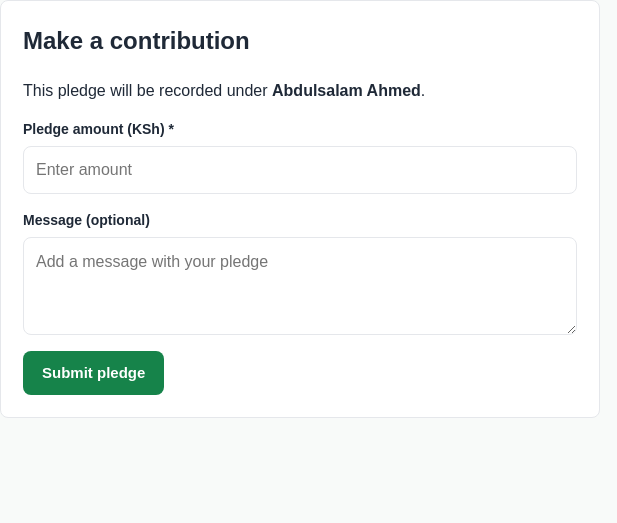
Test: PledgeForm › rejects an amount below KSh 1
Type "0" into the number field labelled "Pledge amount (KSh) *" at (300, 170), box [23,146,577,194]
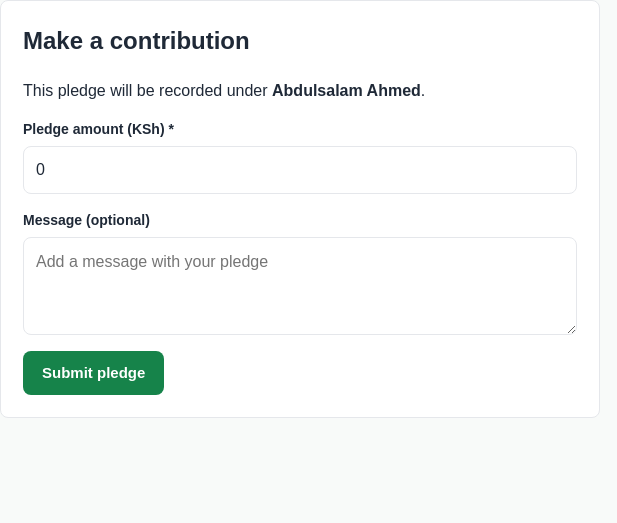
Submit the form named "submit pledge"
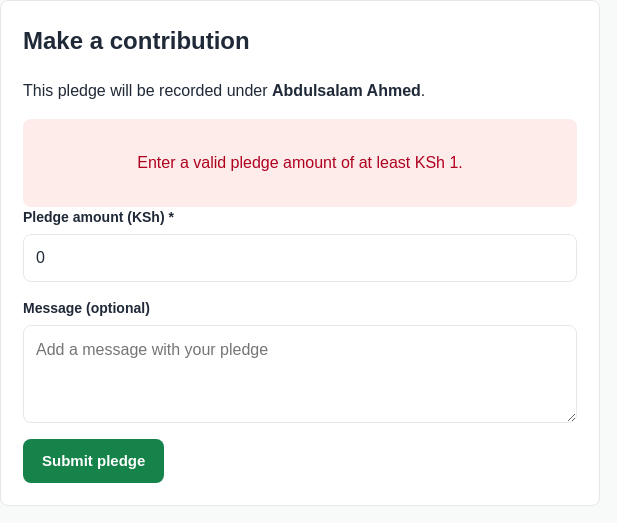
expect the text "Enter a valid pledge amount of at least KSh 1." is shown: met, box [23,119,577,207]
